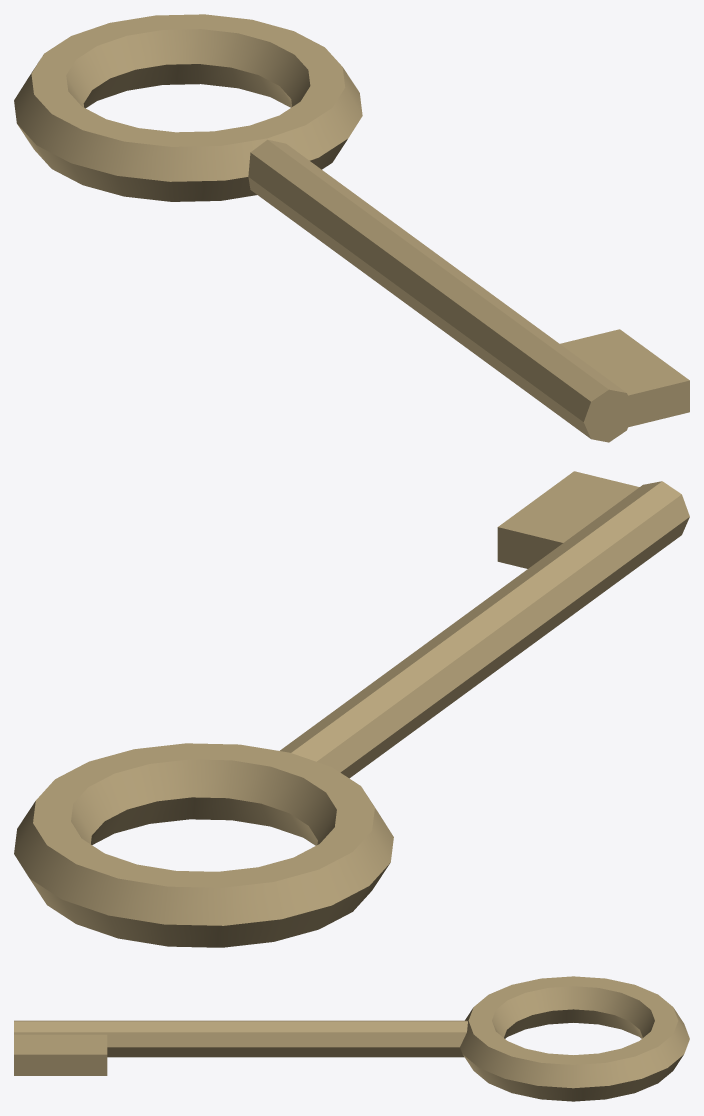
The model's file is old_key.glb.
3 views of the same model, one above another, from view 1: azimuth 30°, elevation 25°; view 2: azimuth 150°, elevation 25°; view 3: azimuth 270°, elevation 25° (orthographic). The views are drawn at different scales.
Parts seen in each view (by area): view 1: old_key; view 2: old_key; view 3: old_key.
Part boxes in pixels (x1=…): old_key: x1=14, y1=14, x2=689, y2=442; old_key: x1=14, y1=471, x2=689, y2=947; old_key: x1=14, y1=976, x2=689, y2=1101.
Bounding box in the file's own units: 0.03 × 0.0052 × 0.087.
